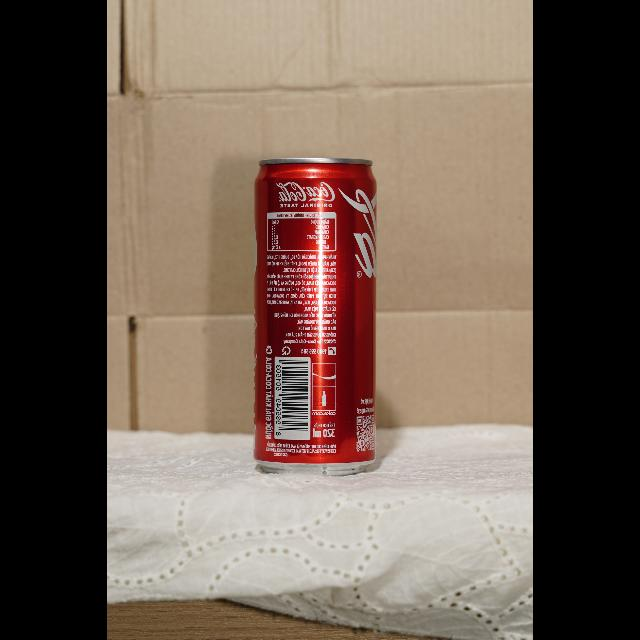coca_cola: (252, 157, 378, 476)
